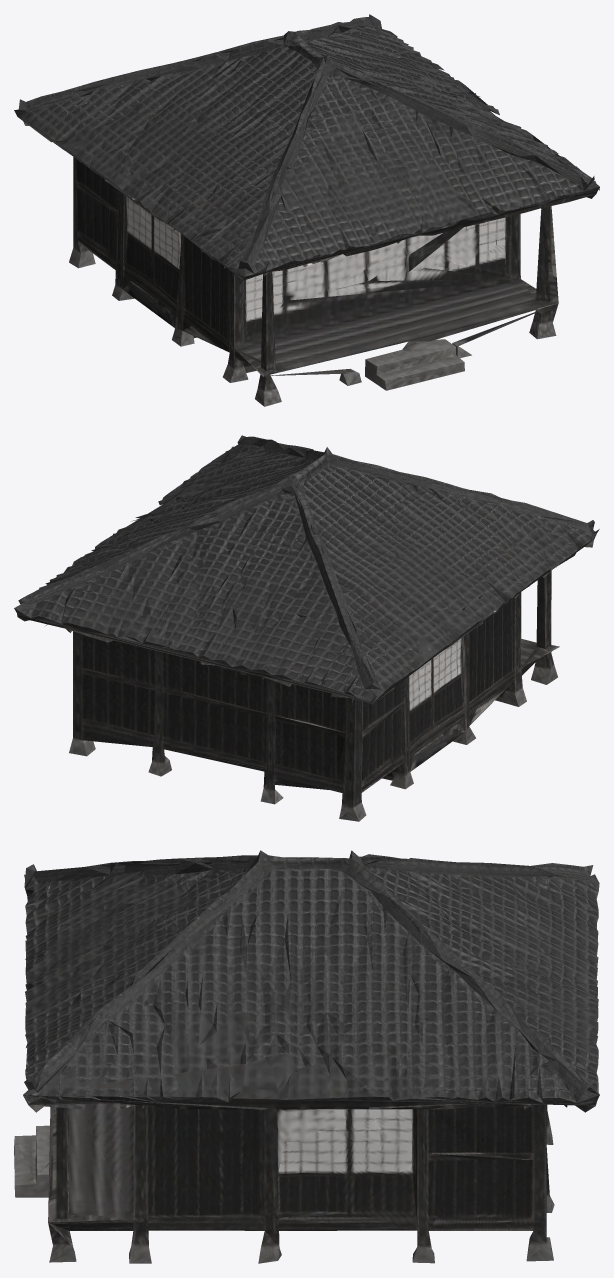
Rendered from house.glb.
The picture shows the model from 3 angles, top to bottom: view 1: azimuth 30°, elevation 25°; view 2: azimuth 150°, elevation 25°; view 3: azimuth 270°, elevation 25°; orthographic projection. The views are drawn at different scales.
Parts seen in each view (by area): view 1: output_unwrapped; view 2: output_unwrapped; view 3: output_unwrapped.
Boxes of the visible parts, x1=… form: output_unwrapped: x1=14, y1=14, x2=599, y2=406; output_unwrapped: x1=14, y1=435, x2=599, y2=821; output_unwrapped: x1=14, y1=850, x2=599, y2=1263.
Size of the model in its own units: 8.31 by 5.6 by 9.14.
1 material, 1 textured.
